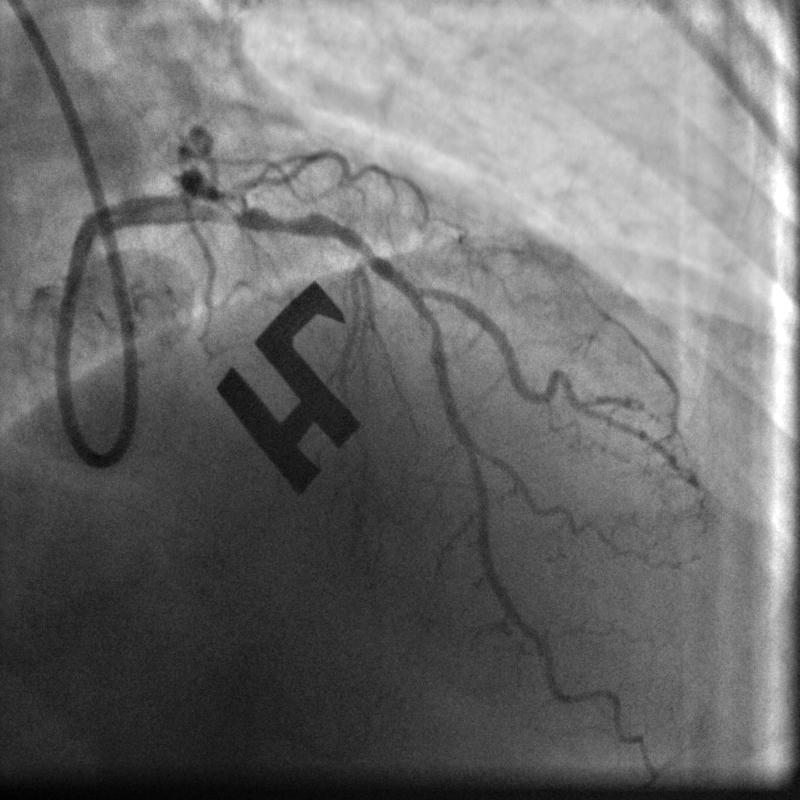Stenosis: (217, 201, 321, 233)
